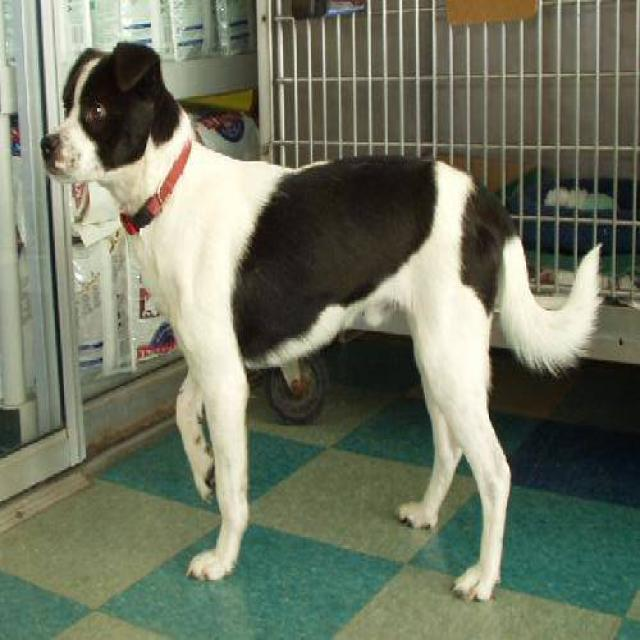dog: (38, 40, 604, 602)
